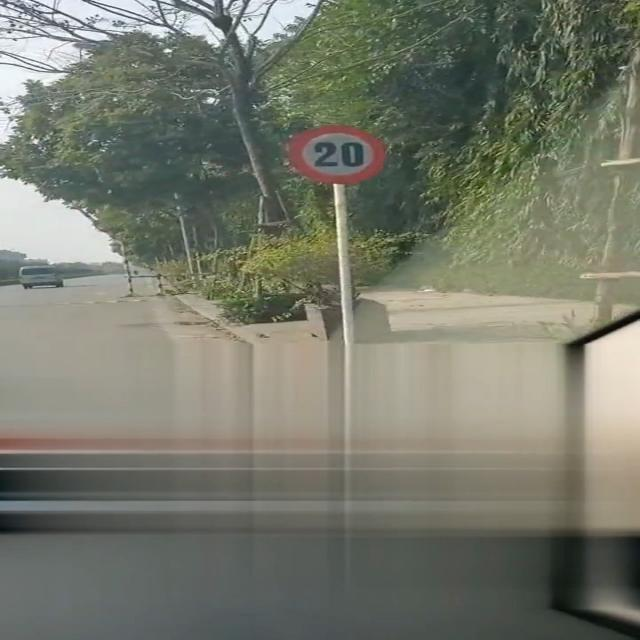127-toc-do-toi-da-20: (287, 124, 385, 186)
